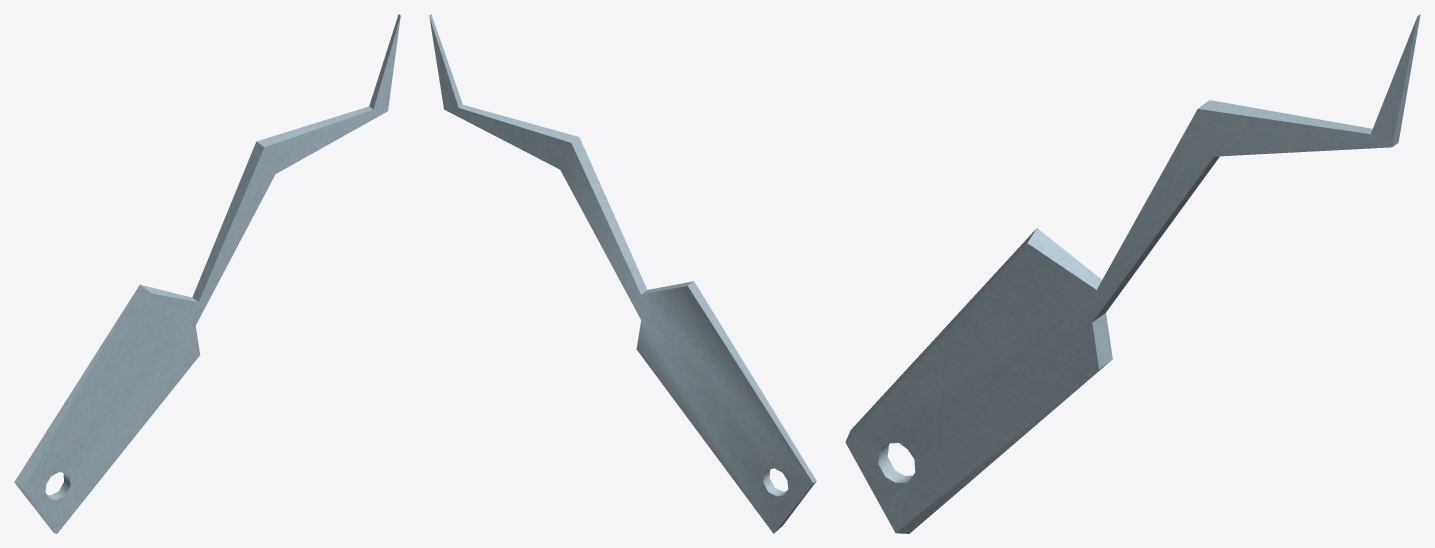
Rendered from hello_neighbor_lockpick.glb.
3 renders of one model, left to right at view 1: azimuth 30°, elevation 25°; view 2: azimuth 150°, elevation 25°; view 3: azimuth 330°, elevation 25°, orthographic. The views are drawn at different scales.
Visible parts, largest first — view 1: Object_2; view 2: Object_2; view 3: Object_2.
Part boxes in pixels (box(x1,y1,x2,y2)): Object_2: box(14, 14, 400, 533); Object_2: box(429, 14, 816, 533); Object_2: box(845, 14, 1420, 533).
Bounding box in the file's own units: 0.4293 × 0.464 × 0.0179.
1 material, 1 textured.
